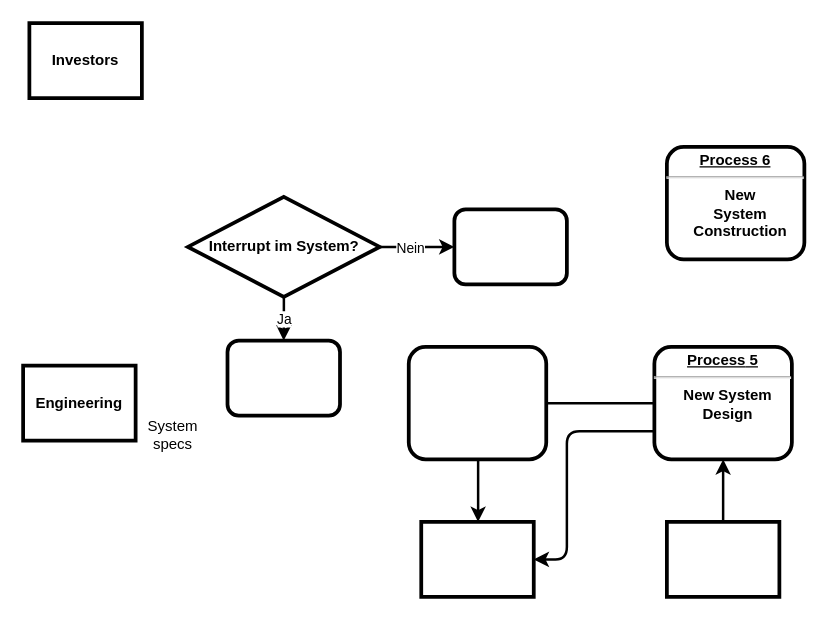
The diagram is 828 pixels wide and 620 high, and some of its shapes have lost their labels. The shapes that lost their labels are listed below. From the top down, each one's centre as x and y in pixels, then its label:
At point (477, 402): "Process 7 New System Startup and Testing".
At point (477, 558): "Management".
At point (722, 558): "Vendors".
